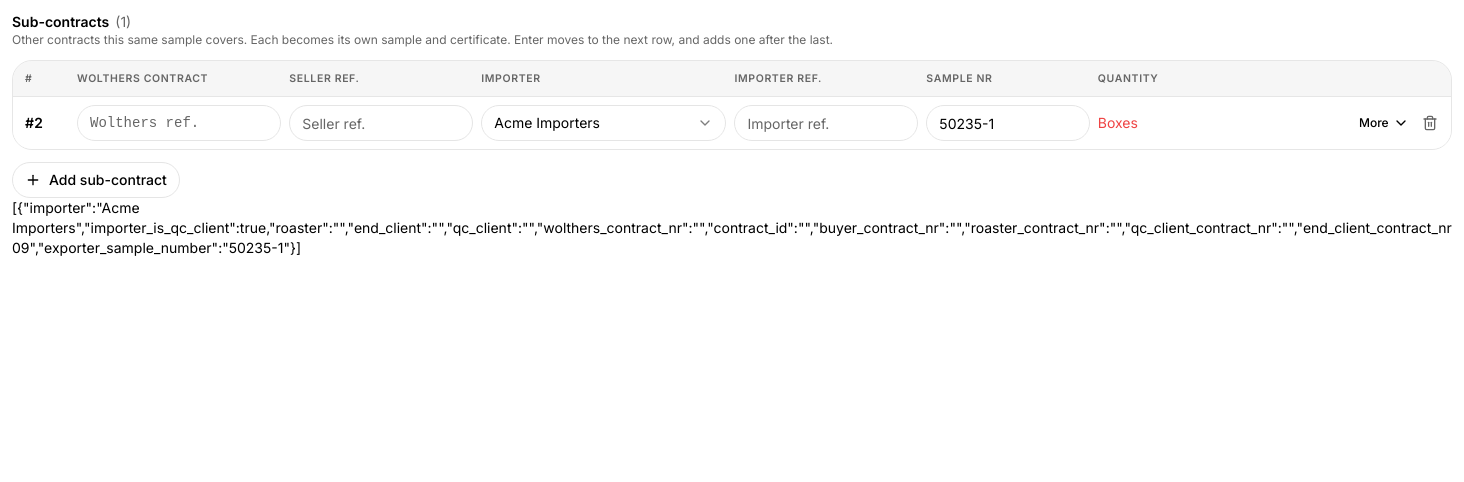
Test: SubContractsTable › reads the quantity out in the row and flags what is missing
Expected: the text named "Quantity, sub-contract #2" reads "Boxes", [1098,114,1138,131]
Click the button with aria-label "More fields, sub-contract #2" at [1384, 123], box [1351,109,1417,137]
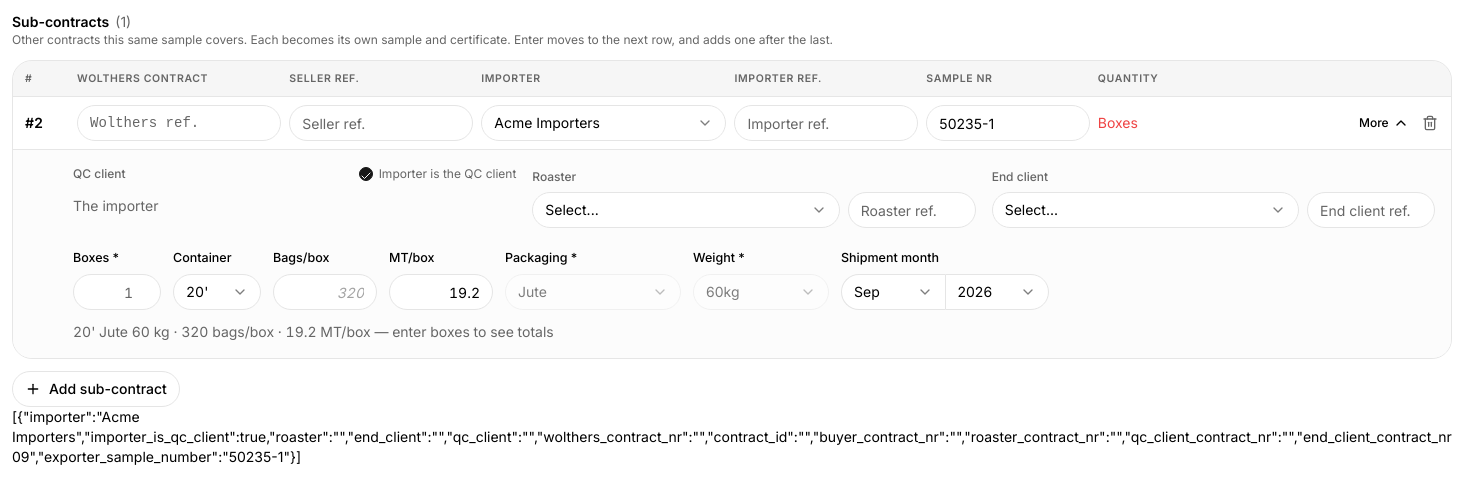
Type "2" into the number field labelled "Boxes *" at [117, 292], box [73,274,161,310]
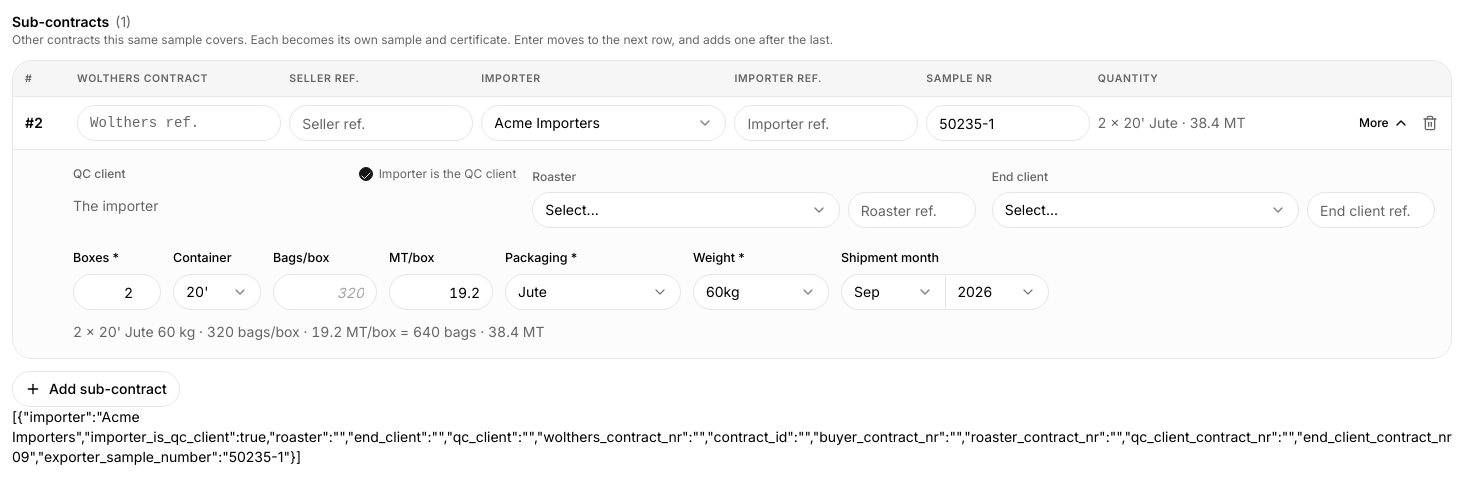
Expected: the text named "Quantity, sub-contract #2" reads "2 × 20' Jute · 38.4 MT", [1098,114,1246,131]
